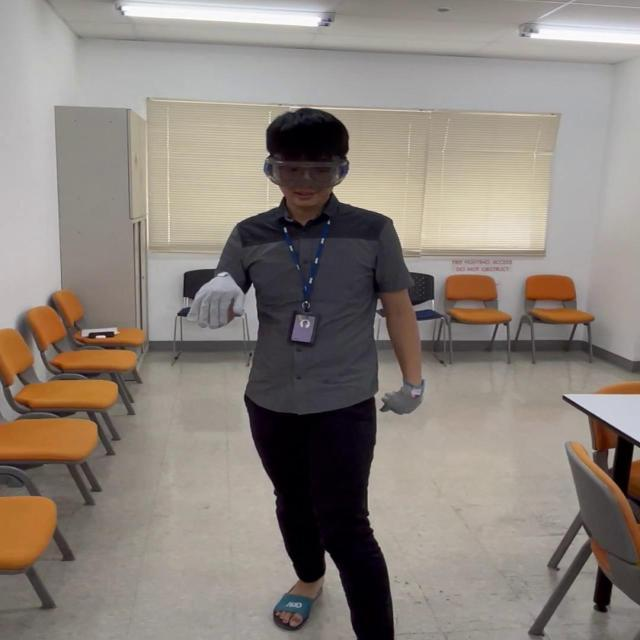gloved_hand: (188, 271, 257, 335), (379, 368, 431, 414)
